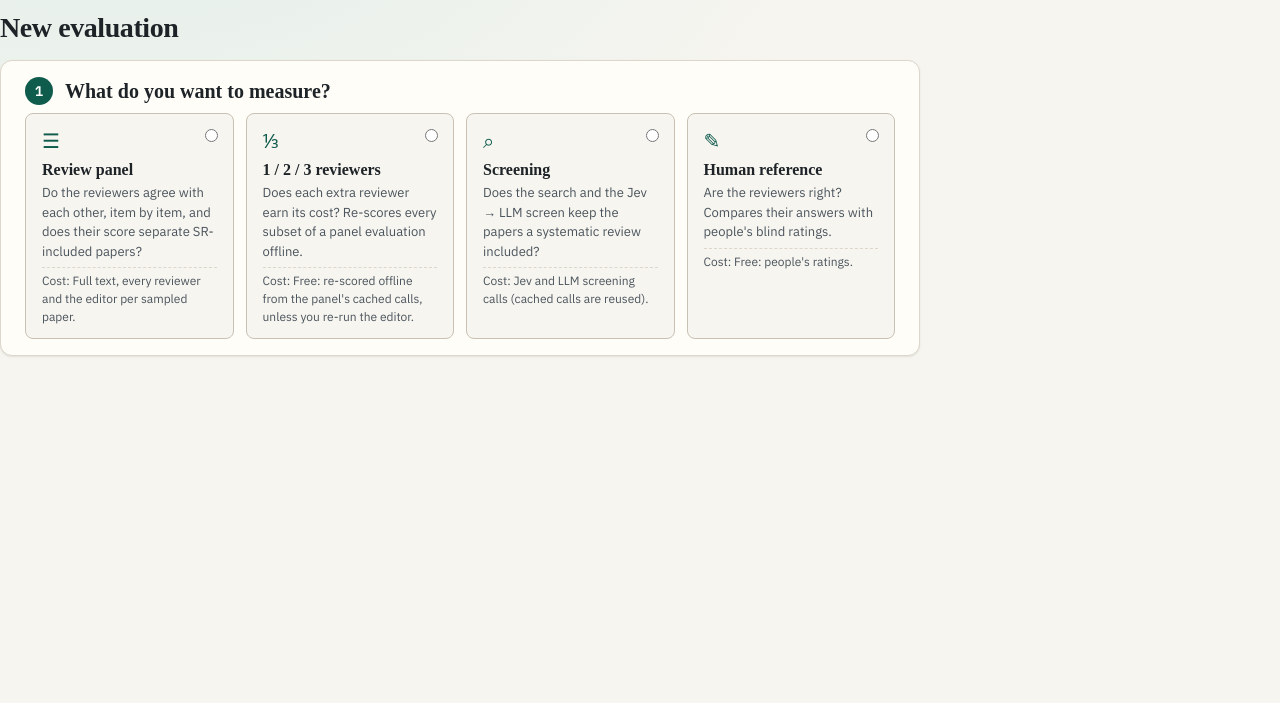
New evaluation › says what is missing instead of sending an incomplete request
Step 1. Click the radio button labelled "Screening" → x=652, y=136, box [646,129,658,142]
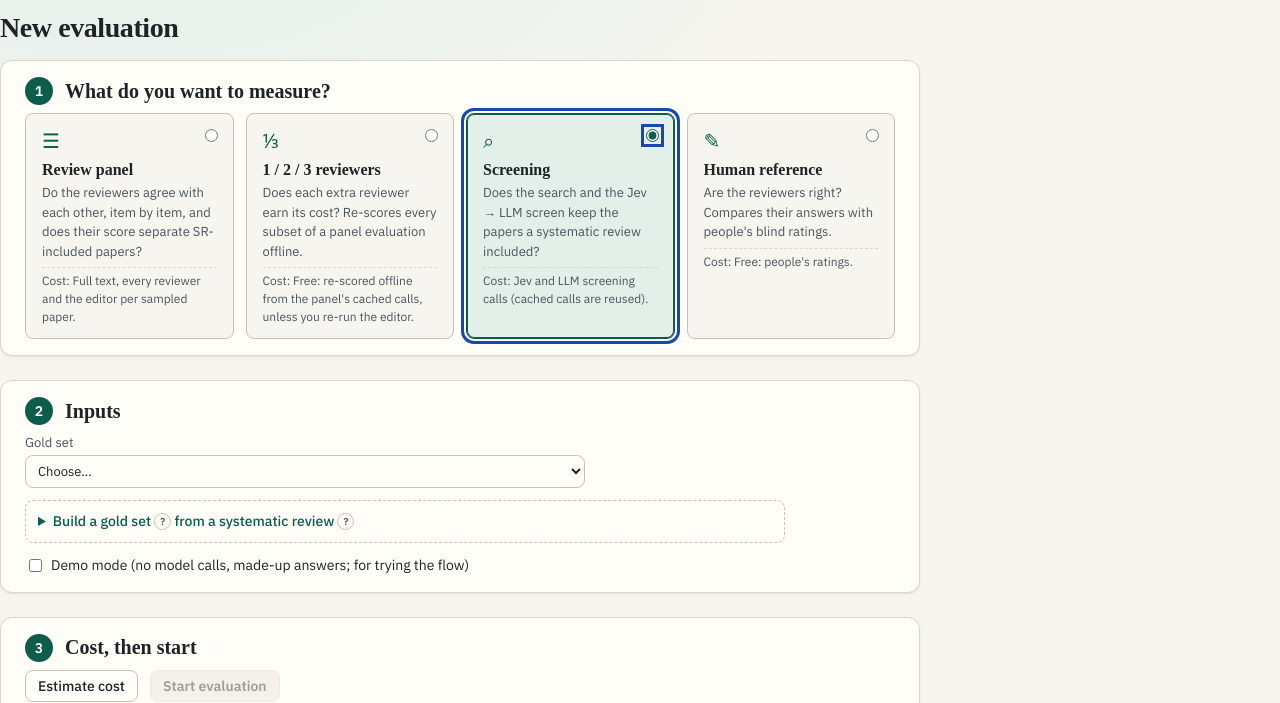
Step 2. Click the button "Estimate cost" → x=81, y=686, box [25,670,138,702]
(page scrolled)
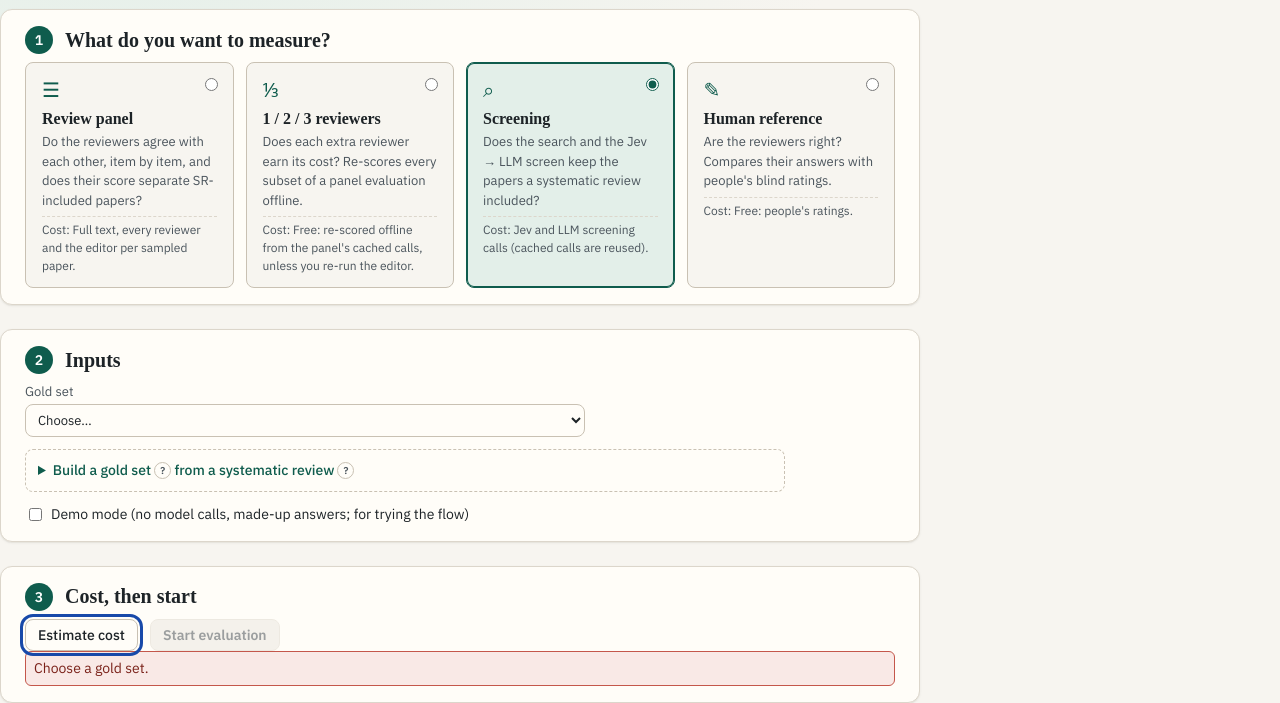
Result: the message reads "Choose a gold set." at [34,659,148,677]
